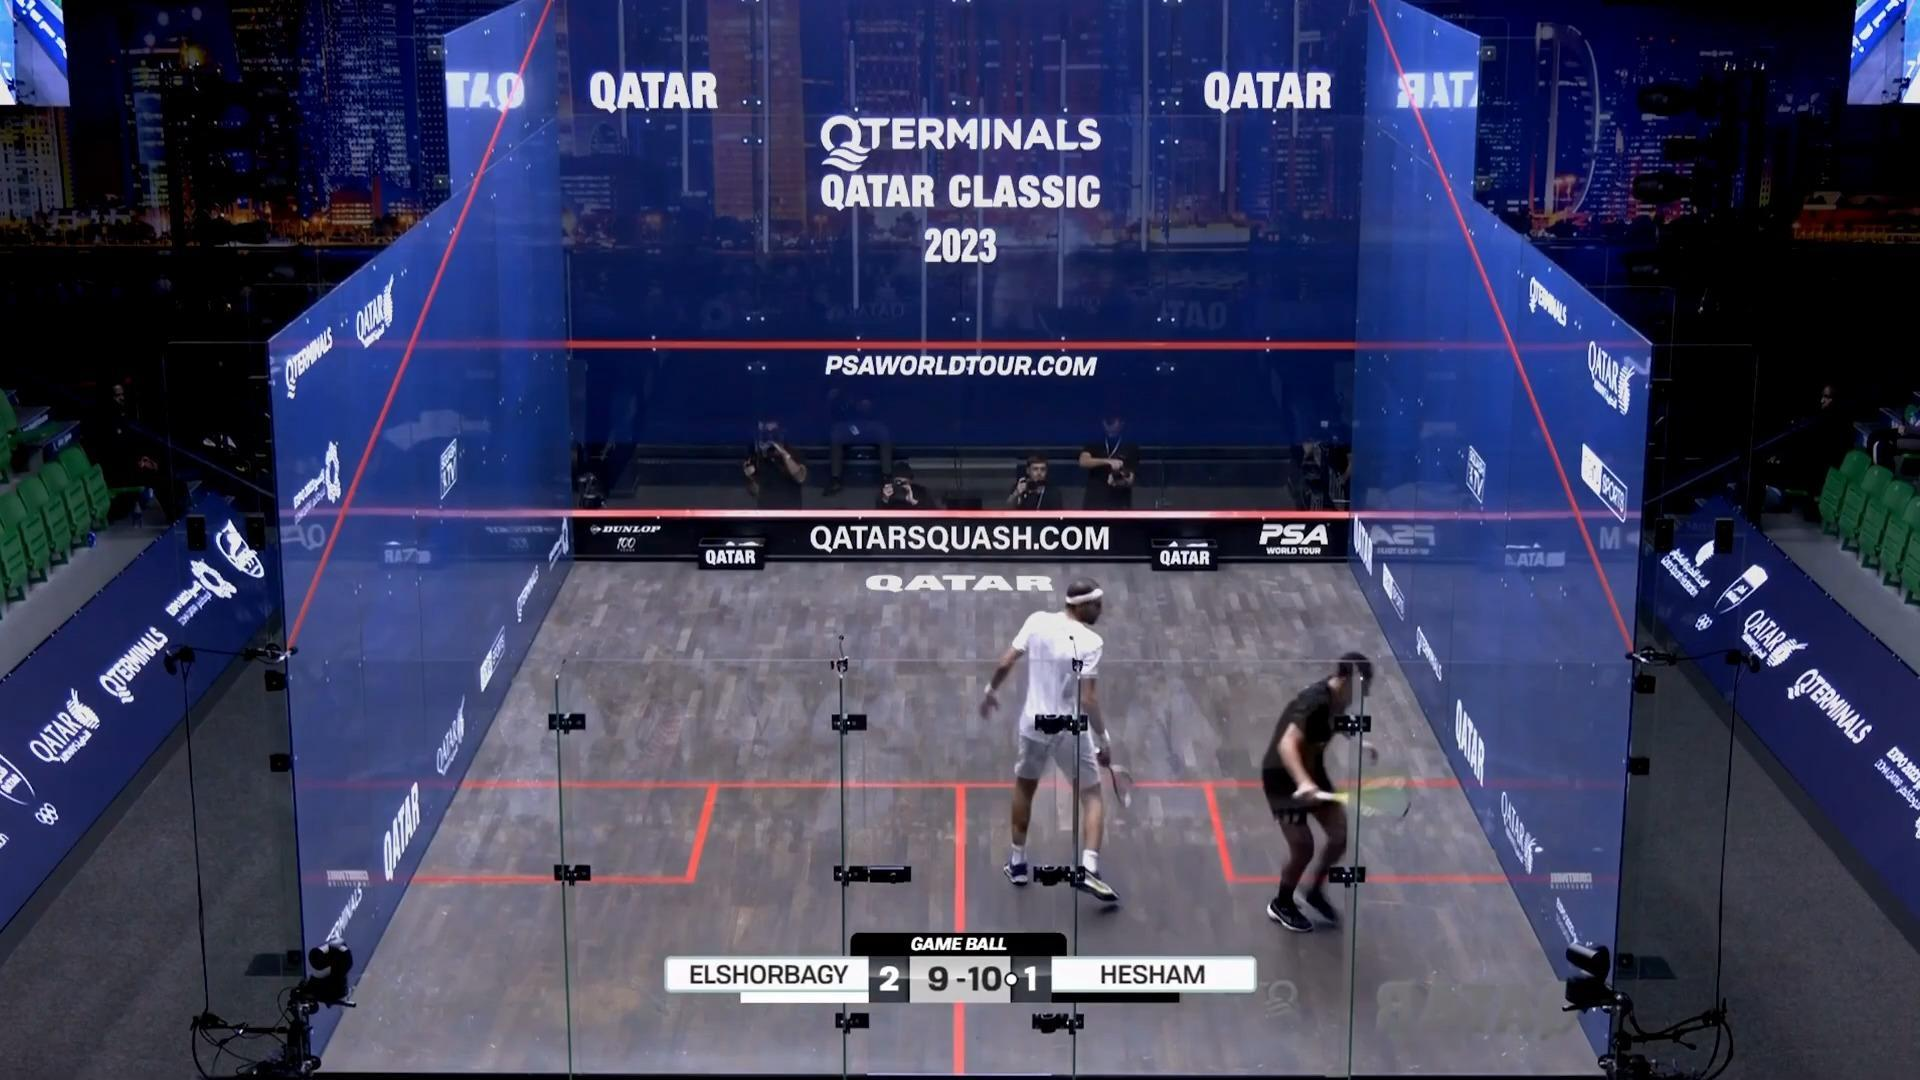Squash-Ball: (1528, 833, 1552, 872)
